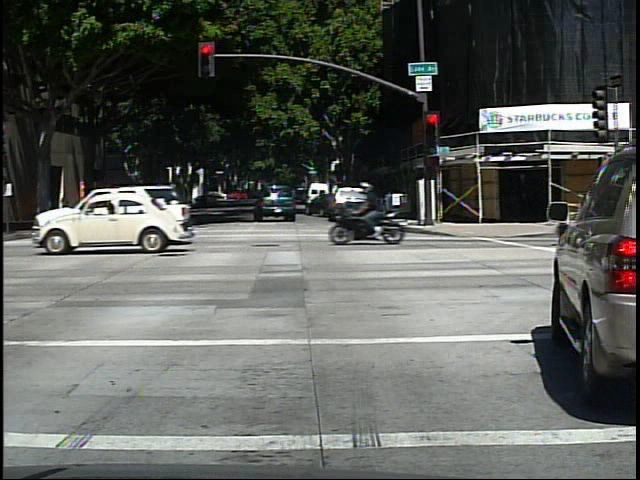person: (367, 177, 406, 238), (60, 190, 72, 225)
